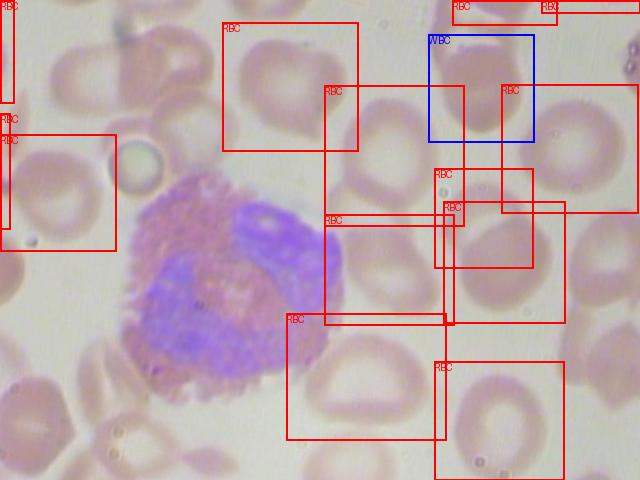RBC: (286, 313, 446, 440), (324, 85, 464, 226), (501, 84, 638, 213), (222, 22, 358, 151), (434, 361, 564, 480), (443, 201, 565, 323), (324, 214, 454, 325), (0, 134, 116, 251), (434, 168, 533, 268), (452, 0, 557, 25), (0, 0, 14, 103), (541, 0, 640, 13), (0, 113, 10, 229)
WBC: (428, 34, 534, 142)
